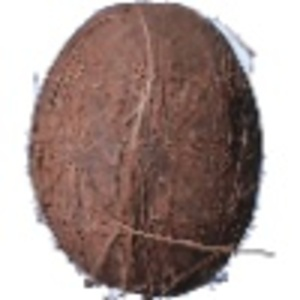coco: (27, 1, 266, 300)
